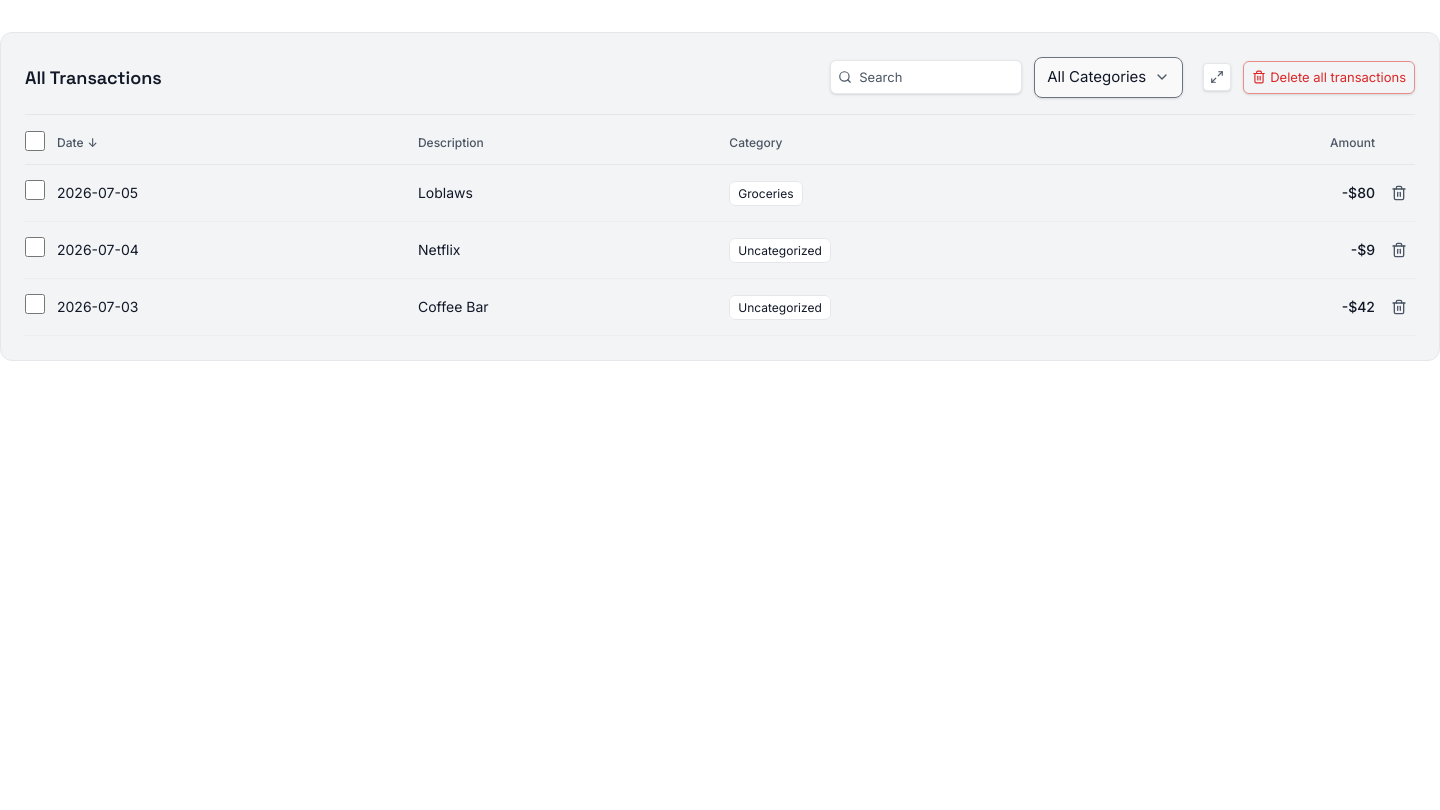
TransactionListWidget search › states the full transaction count in the Delete all confirmation, not the filtered count
The width and height of the screenshot is (1440, 810).
In the search field named "Search transactions": [926, 77] box [830,60,1022,94], type "netfl"
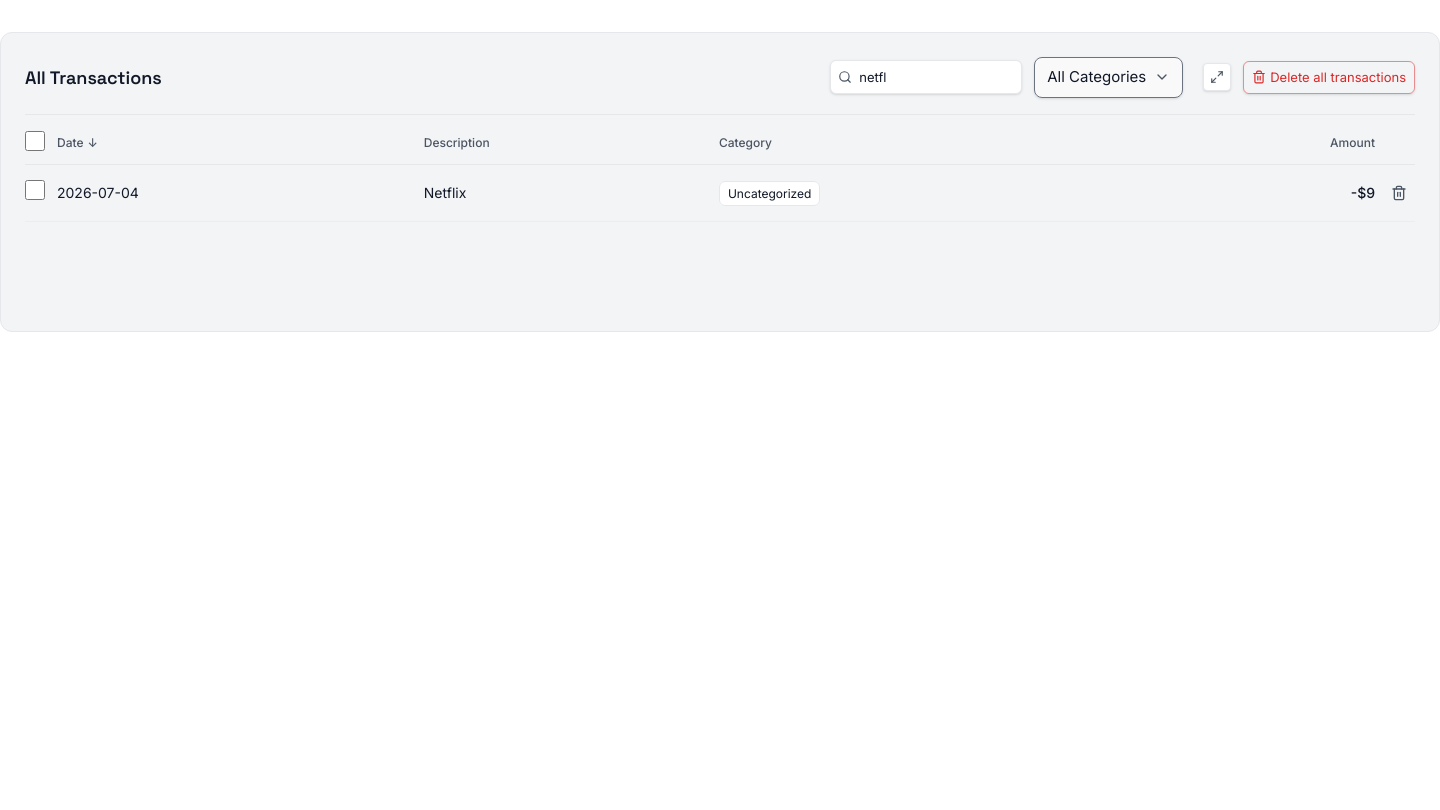
Click the button "Delete all transactions": [1329, 77] box [1243,60,1415,94]
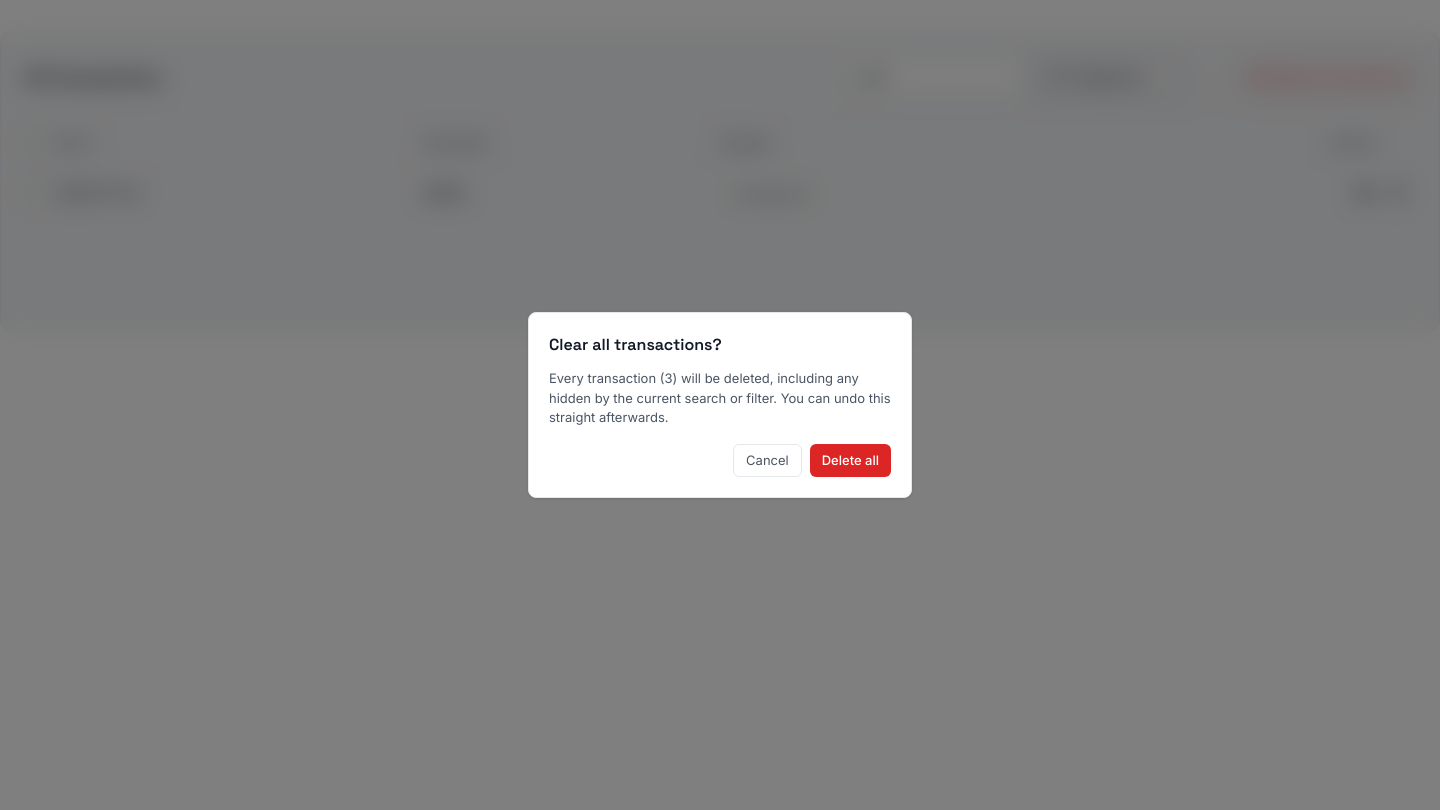
Result: the text "hidden by the current search or filter" is shown at [549,370,891,425]
